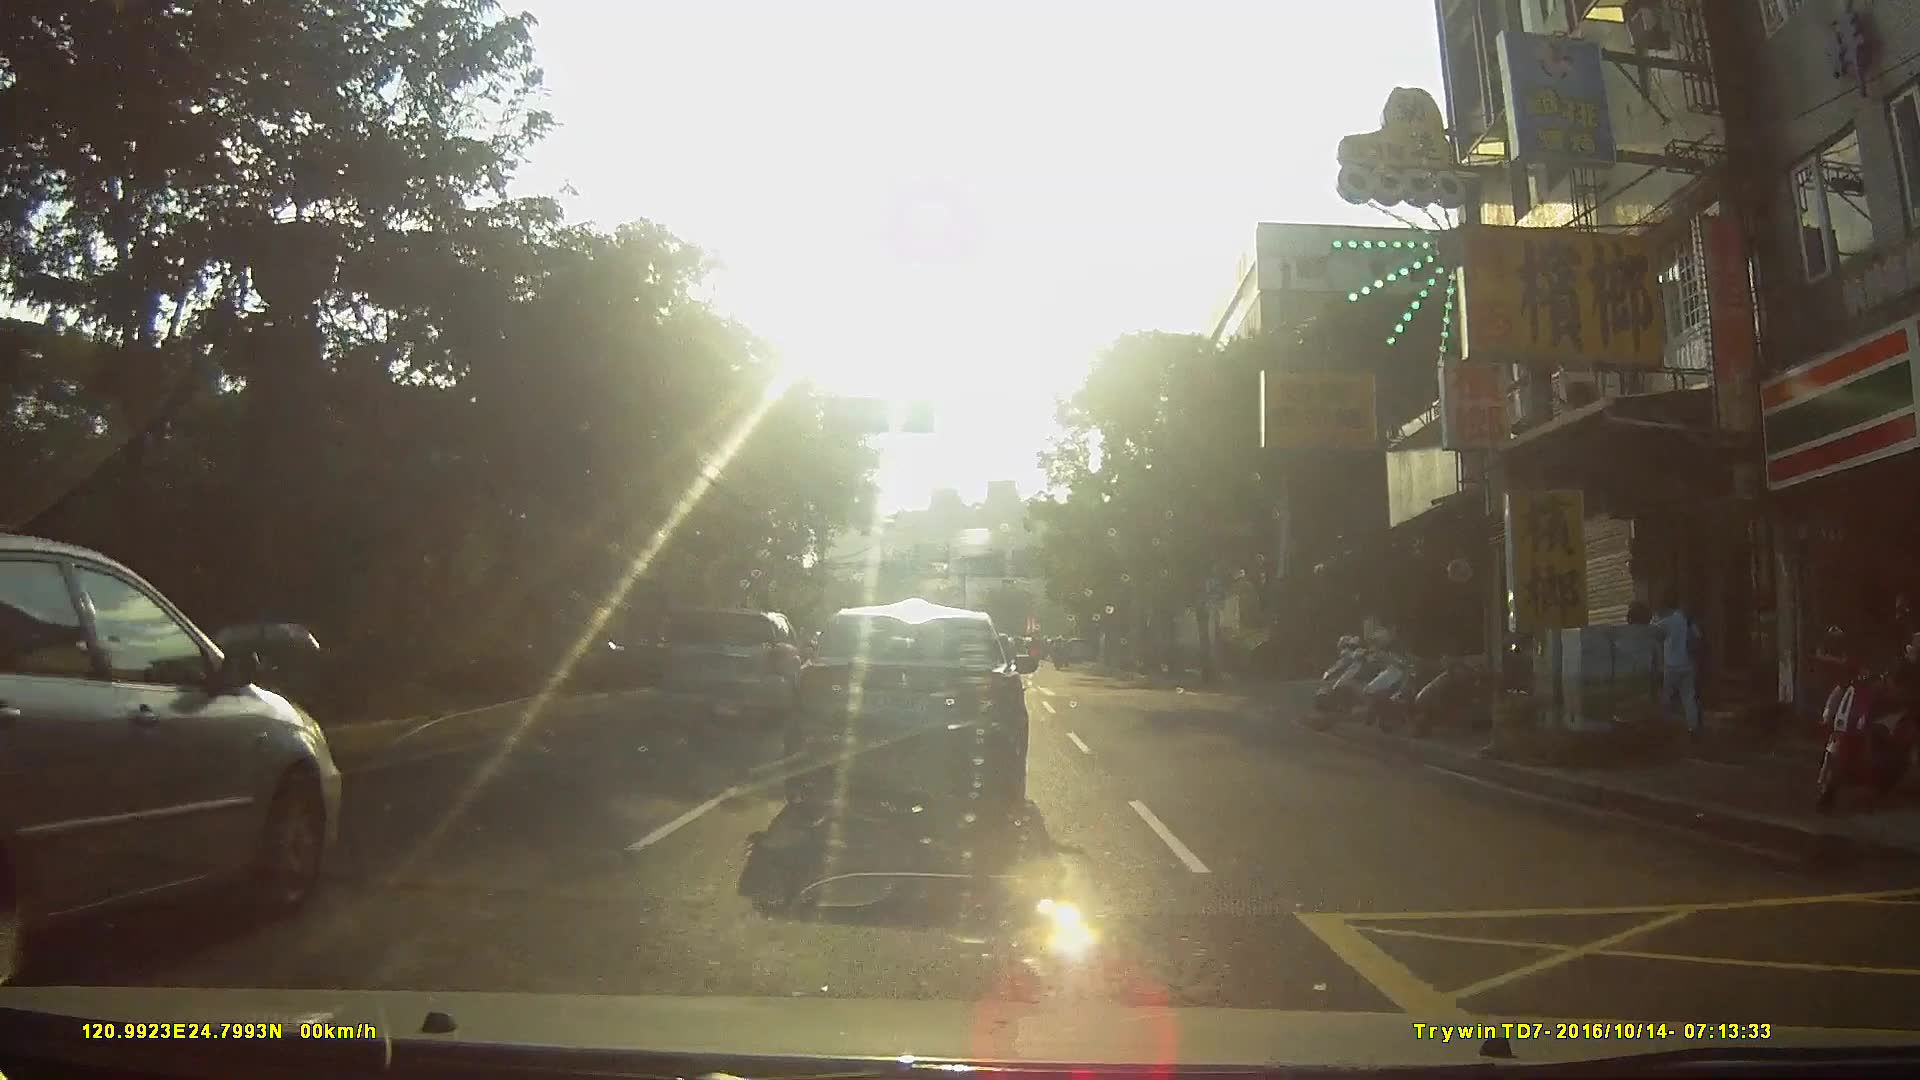pedestrian: (1648, 587, 1712, 740), (1900, 610, 1920, 790)
vehicle: (1, 526, 350, 976), (793, 596, 1057, 825), (661, 605, 812, 725)
